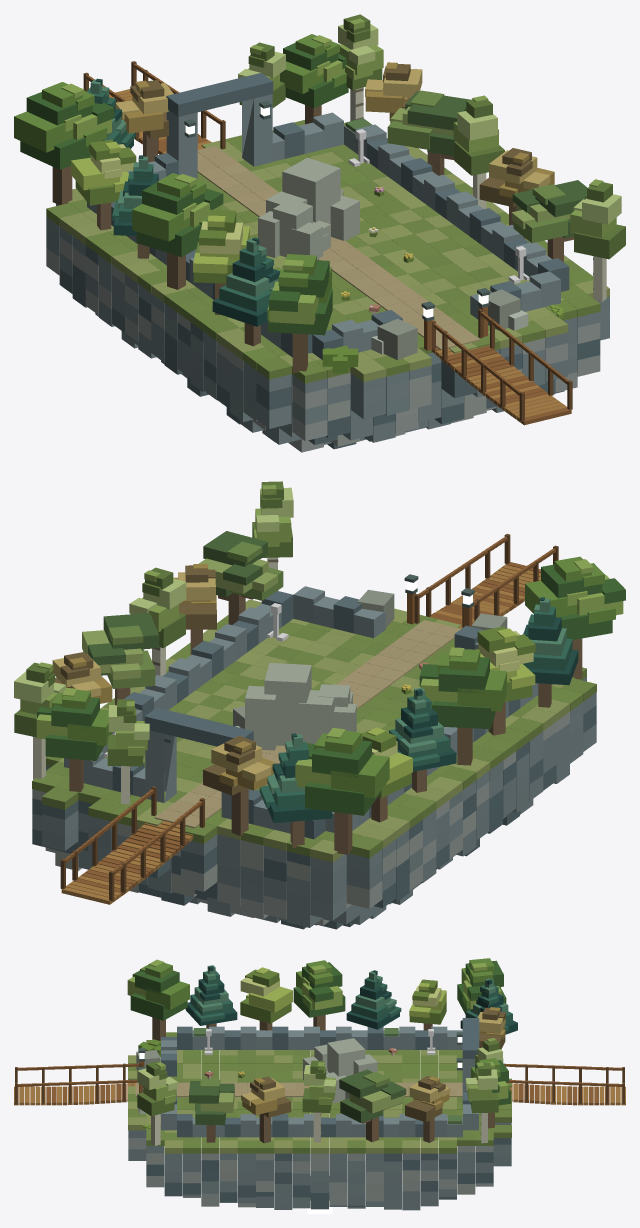
File: room_rock_purified.glb
3 views of the same model, one above another, from view 1: azimuth 30°, elevation 25°; view 2: azimuth 150°, elevation 25°; view 3: azimuth 270°, elevation 25° (orthographic). The views are drawn at different scales.
Visible parts, largest first — view 1: room_rock_blocks, tree0_(0, 0).003, tree0_(0, 0).002, tree0_(0, 0).001, rock_outcrop_(0, 0).001, tree0_(0, 0).004, tree3_(0, 0).002, tree2_(0, 0).001, tree1_(0, 0).001, tree3_(0, 0).001, tree4_(0, 0).002, tree1_(0, 0).002 (+12 smaller); view 2: room_rock_blocks, tree0_(0, 0).003, tree0_(0, 0).002, tree0_(0, 0).001, rock_outcrop_(0, 0).001, tree0_(0, 0).004, tree3_(0, 0).002, tree3_(0, 0).001, tree5_(0, 0).003, tree2_(0, 0).002, tree2_(0, 0).001, tree2_(0, 0).003 (+10 smaller); view 3: room_rock_blocks, tree0_(0, 0).001, tree3_(0, 0).002, tree0_(0, 0).002, tree4_(0, 0).001, tree1_(0, 0).001, tree3_(0, 0).001, tree2_(0, 0).001, tree2_(0, 0).002, tree5_(0, 0).001, tree5_(0, 0).002, rock_outcrop_(0, 0).001 (+8 smaller).
Boxes of the visible parts, bbox=[...] form: room_rock_blocks: bbox=[46, 61, 609, 452]; tree0_(0, 0).003: bbox=[14, 82, 114, 205]; tree0_(0, 0).002: bbox=[132, 173, 223, 289]; tree0_(0, 0).001: bbox=[267, 254, 332, 373]; rock_outcrop_(0, 0).001: bbox=[266, 157, 359, 247]; tree0_(0, 0).004: bbox=[280, 34, 348, 124]; tree3_(0, 0).002: bbox=[387, 90, 471, 175]; tree2_(0, 0).001: bbox=[212, 237, 280, 346]; tree1_(0, 0).001: bbox=[570, 179, 625, 302]; tree3_(0, 0).001: bbox=[511, 180, 587, 262]; tree4_(0, 0).002: bbox=[71, 139, 136, 230]; tree1_(0, 0).002: bbox=[453, 95, 504, 208]; room_rock_blocks: bbox=[32, 534, 596, 929]; tree0_(0, 0).003: bbox=[295, 727, 389, 854]; tree0_(0, 0).002: bbox=[419, 647, 506, 765]; tree0_(0, 0).001: bbox=[525, 556, 625, 678]; rock_outcrop_(0, 0).001: bbox=[245, 663, 333, 750]; tree0_(0, 0).004: bbox=[36, 687, 112, 791]; tree3_(0, 0).002: bbox=[82, 613, 159, 705]; tree3_(0, 0).001: bbox=[198, 531, 283, 624]; tree5_(0, 0).003: bbox=[203, 735, 277, 835]; tree2_(0, 0).002: bbox=[389, 687, 456, 792]; tree2_(0, 0).001: bbox=[522, 597, 578, 707]; tree2_(0, 0).003: bbox=[259, 733, 332, 847]; room_rock_blocks: bbox=[14, 1018, 625, 1213]; tree0_(0, 0).001: bbox=[127, 959, 189, 1040]; tree3_(0, 0).002: bbox=[339, 1069, 406, 1142]; tree0_(0, 0).002: bbox=[293, 960, 345, 1030]; tree4_(0, 0).001: bbox=[240, 967, 292, 1030]; tree1_(0, 0).001: bbox=[137, 1061, 177, 1145]; tree3_(0, 0).001: bbox=[189, 1079, 234, 1142]; tree2_(0, 0).001: bbox=[185, 965, 237, 1028]; tree2_(0, 0).002: bbox=[346, 970, 401, 1029]; tree5_(0, 0).001: bbox=[241, 1076, 291, 1143]; tree5_(0, 0).002: bbox=[405, 1076, 450, 1142]; rock_outcrop_(0, 0).001: bbox=[325, 1038, 377, 1103].
Size of the model in its own units: 19.12 by 13.63 by 38.5.
